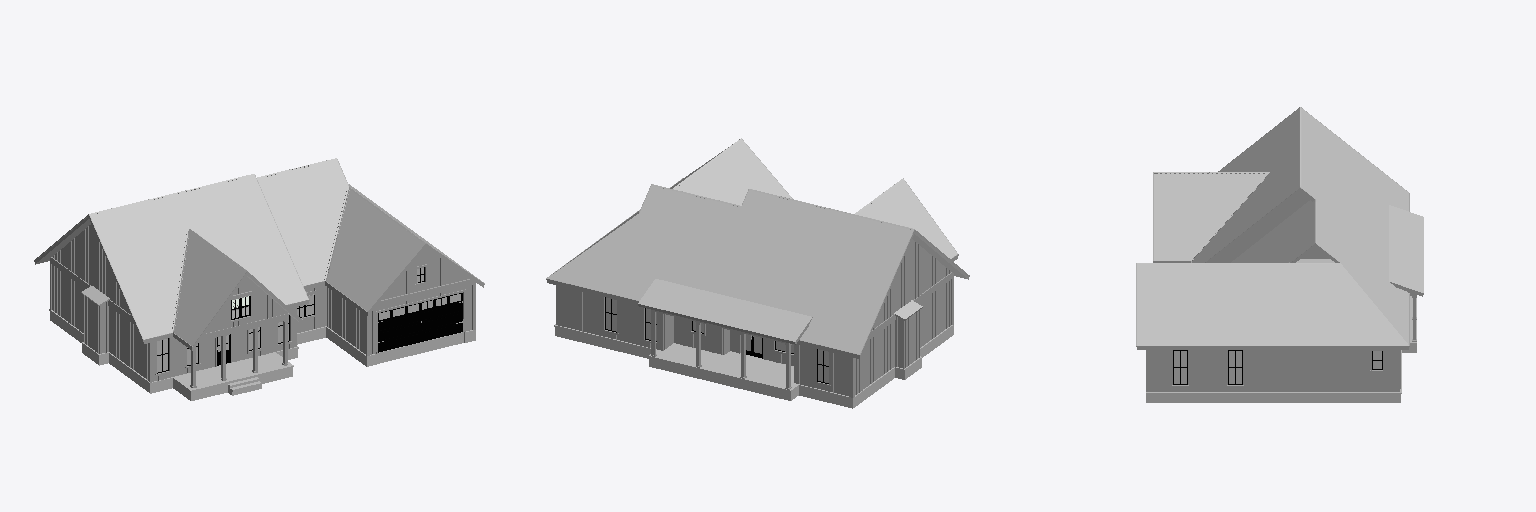
Rendered from US-House.obj.
3 renders of one model, left to right at view 1: azimuth 30°, elevation 25°; view 2: azimuth 150°, elevation 25°; view 3: azimuth 270°, elevation 25°, orthographic.
Visible parts, largest first — view 1: US-Home-Roof, US-Home-Main_Walls, US-Home-Main_Foundation, US-Home-Support_Beams, US-Home-Door_Garage, US-Home-Wooden_Struts, US-Home-Roofing_Tiles_Trim; view 2: US-Home-Roof, US-Home-Main_Walls, US-Home-Main_Foundation, US-Home-Wooden_Struts, US-Home-Support_Beams, US-Home-Roofing_Tiles_Trim; view 3: US-Home-Roof, US-Home-Main_Walls, US-Home-Main_Foundation, US-Home-Wooden_Struts, US-Home-Roofing_Tiles_Trim, US-Home-Window_Single_04, US-Home-Window_Single_05.
Part boxes in pixels (x1,y1,x2,y2): US-Home-Roof: (34,159,484,350); US-Home-Main_Walls: (52,224,471,381); US-Home-Main_Foundation: (49,309,475,400); US-Home-Support_Beams: (50,257,475,387); US-Home-Door_Garage: (378,293,462,352); US-Home-Wooden_Struts: (54,226,455,380); US-Home-Roofing_Tiles_Trim: (89,158,426,332); US-Home-Roof: (546,139,969,358); US-Home-Main_Walls: (556,239,950,396); US-Home-Main_Foundation: (554,324,953,408); US-Home-Wooden_Struts: (567,242,949,395); US-Home-Support_Beams: (651,272,953,397); US-Home-Roofing_Tiles_Trim: (651,138,913,229); US-Home-Roof: (1136,107,1423,349); US-Home-Main_Walls: (1149,192,1399,391); US-Home-Main_Foundation: (1146,296,1416,402); US-Home-Wooden_Struts: (1152,195,1400,391); US-Home-Roofing_Tiles_Trim: (1137,107,1337,263); US-Home-Window_Single_04: (1227,350,1243,386); US-Home-Window_Single_05: (1172,350,1188,386).
Bounding box in the file's own units: 19.5 × 8.64 × 15.47.